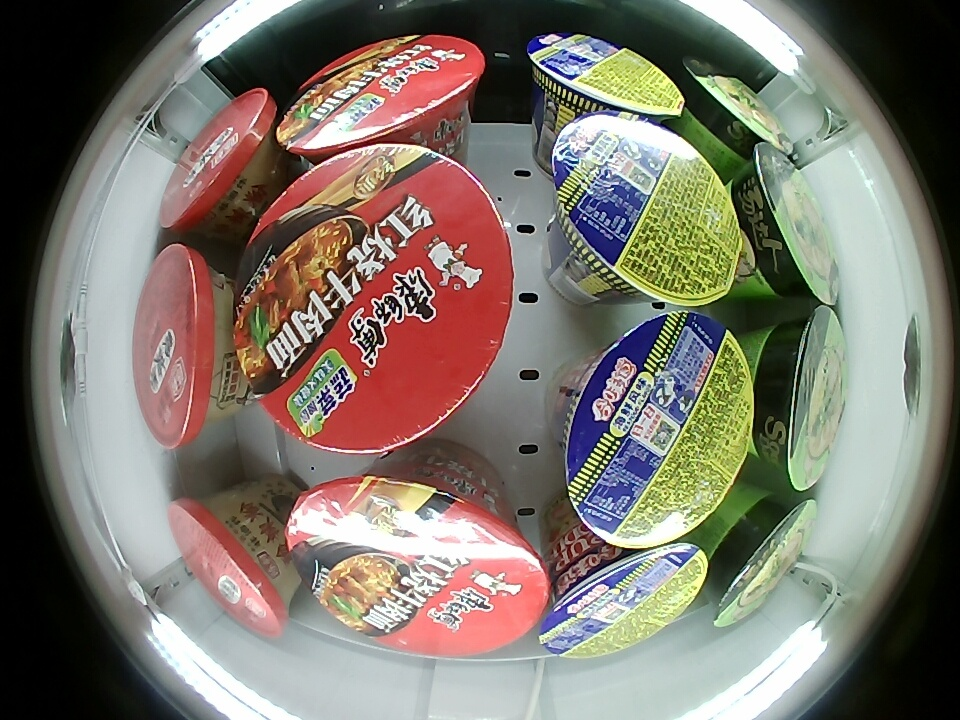heweidao: (561, 311, 751, 550), (552, 113, 741, 308), (541, 539, 709, 659), (528, 32, 685, 125)
hongshaoniurou: (234, 144, 514, 455), (285, 472, 548, 655), (276, 33, 483, 163)
suanlafen: (133, 245, 235, 443), (161, 87, 280, 236), (170, 492, 293, 636)
tangdaren: (731, 141, 840, 311), (752, 305, 849, 493), (706, 491, 817, 626), (682, 58, 793, 164)
